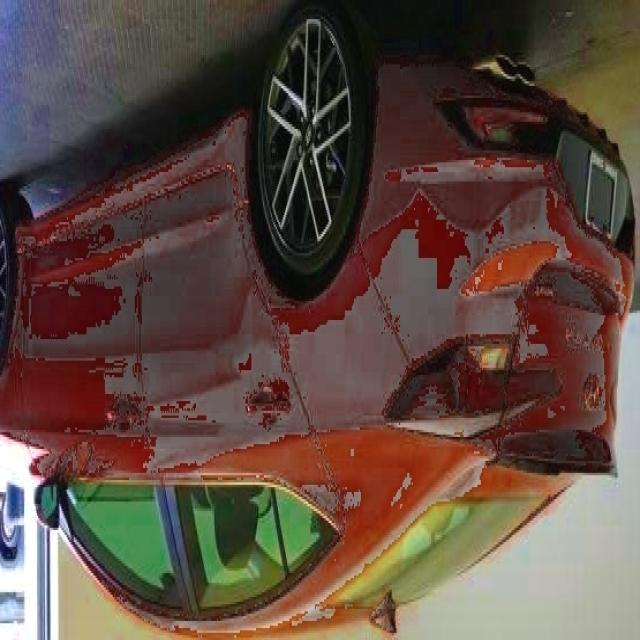maroon: (0, 61, 619, 629)
